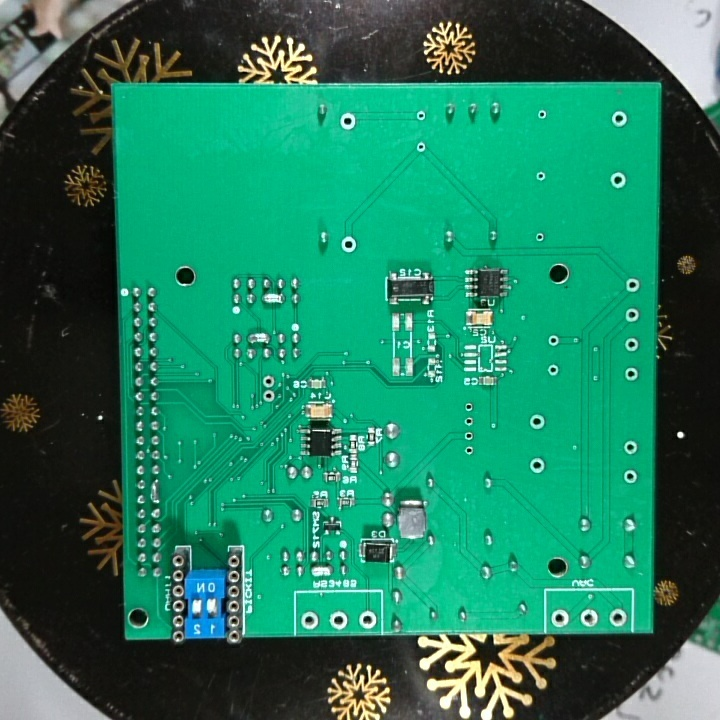F: (575, 607, 602, 628), (608, 169, 630, 192), (328, 609, 351, 631), (357, 609, 379, 631), (527, 455, 549, 477), (608, 109, 631, 129), (608, 606, 628, 629), (299, 610, 320, 631), (527, 412, 548, 433), (338, 111, 359, 131), (551, 607, 570, 629), (622, 275, 642, 295), (622, 364, 642, 384), (259, 386, 279, 406), (622, 334, 641, 355), (622, 467, 641, 487), (622, 307, 643, 325), (622, 438, 641, 457), (340, 235, 359, 254), (259, 372, 278, 389), (545, 333, 561, 351), (545, 362, 560, 379), (459, 398, 477, 412), (414, 107, 428, 124), (414, 138, 428, 154), (534, 168, 548, 183), (534, 229, 547, 245), (462, 443, 476, 457), (535, 107, 548, 122), (462, 415, 477, 428), (462, 429, 475, 443)
P: (261, 290, 284, 309), (308, 563, 334, 579), (245, 332, 274, 346), (148, 478, 162, 506)
